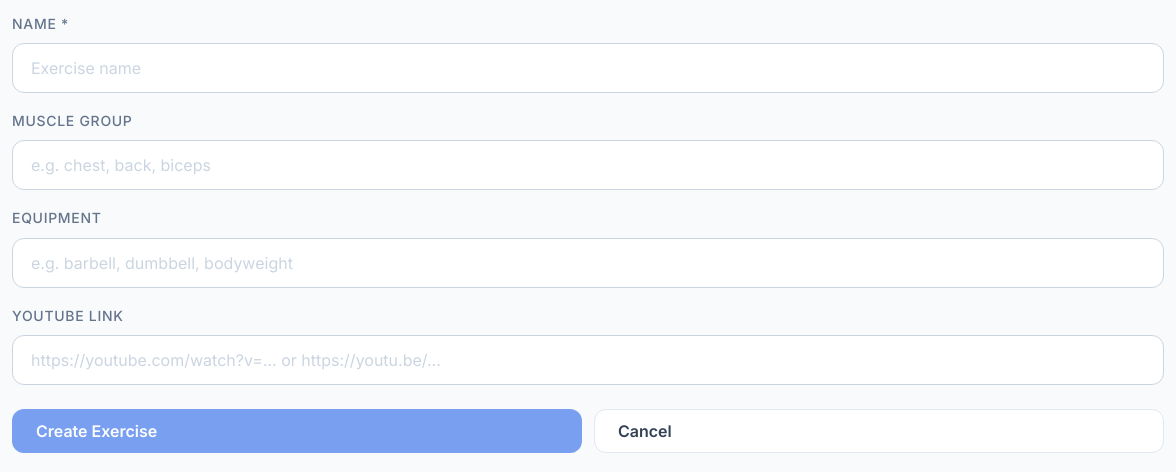
Test: CustomExerciseForm › Form behavior › disables form fields while loading
The width and height of the screenshot is (1176, 472).
Step 1. Type "Test" into the field with placeholder "Exercise name" → (588,68), box [12,43,1164,93]
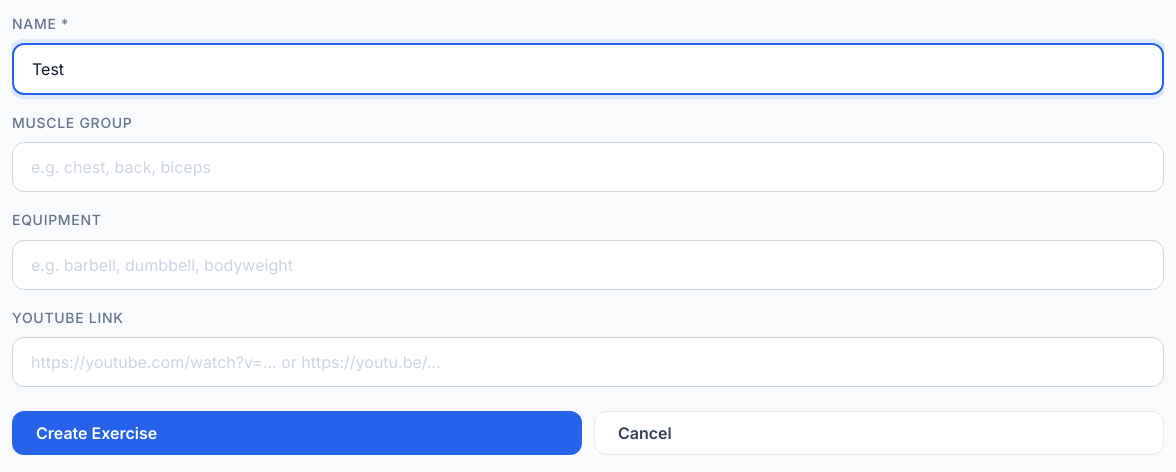
Step 2. Click the button "Create Exercise" → (97,433), box [12,411,582,455]
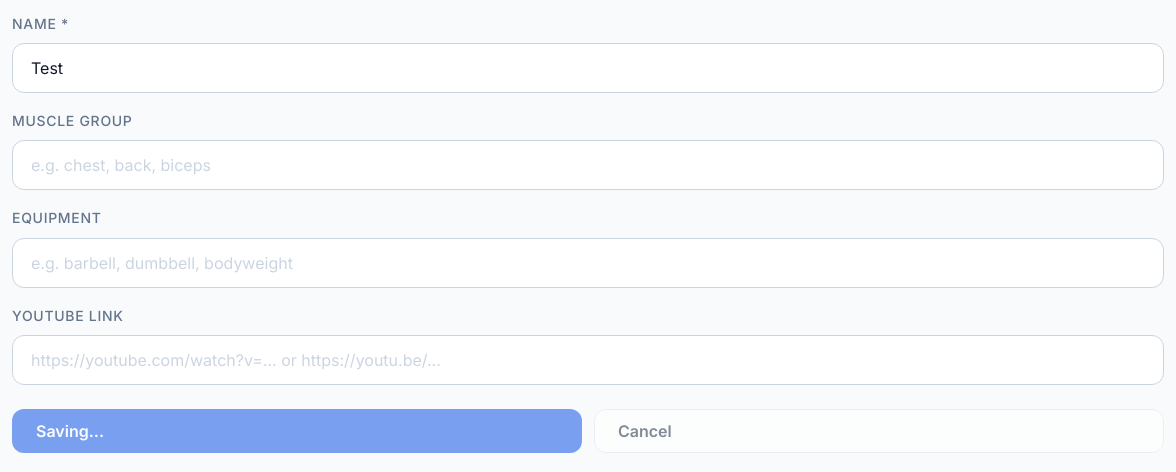
expect the field with placeholder "Exercise name" is disabled: met, box [12,43,1164,93]
expect the button named "Create Exercise" is disabled: met, box [12,409,582,453]
